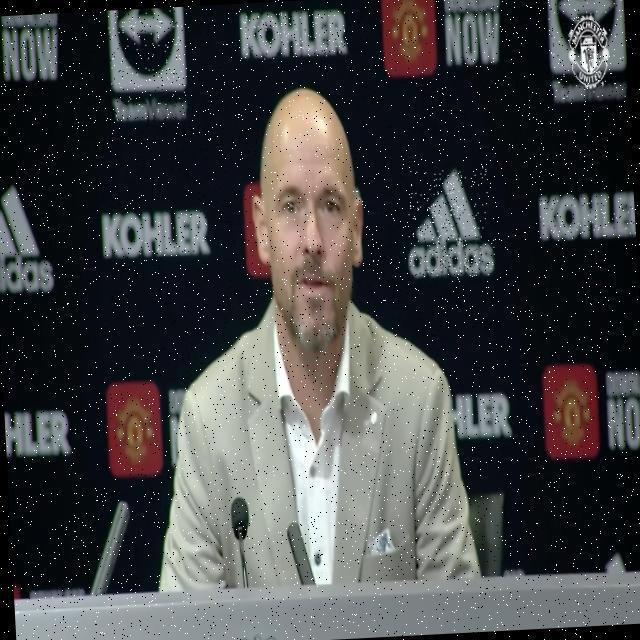Adidas: (403, 167, 496, 284)
Kohler: (241, 7, 348, 61), (103, 209, 210, 259), (539, 194, 636, 241)
TeamViewer: (108, 7, 189, 121), (547, 0, 627, 102)
